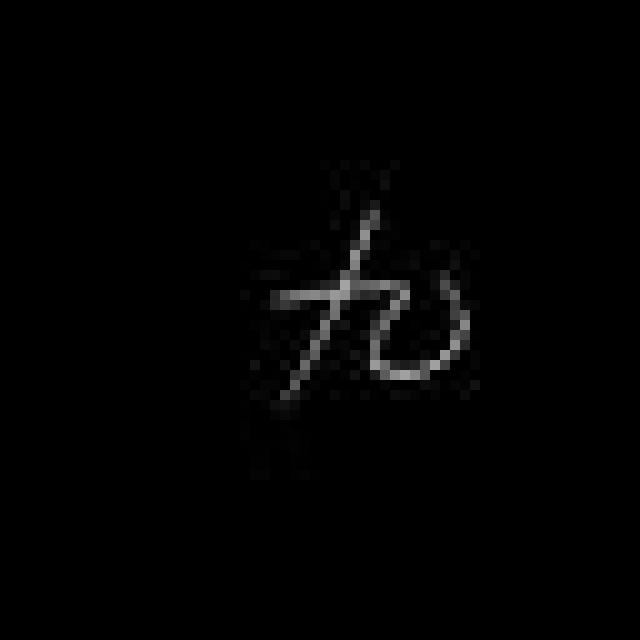9 -nine-: (263, 202, 477, 416)
